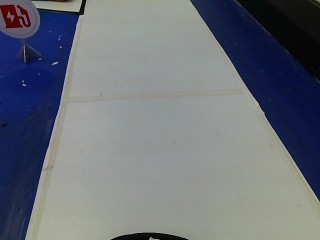battery: (0, 0, 40, 37)
